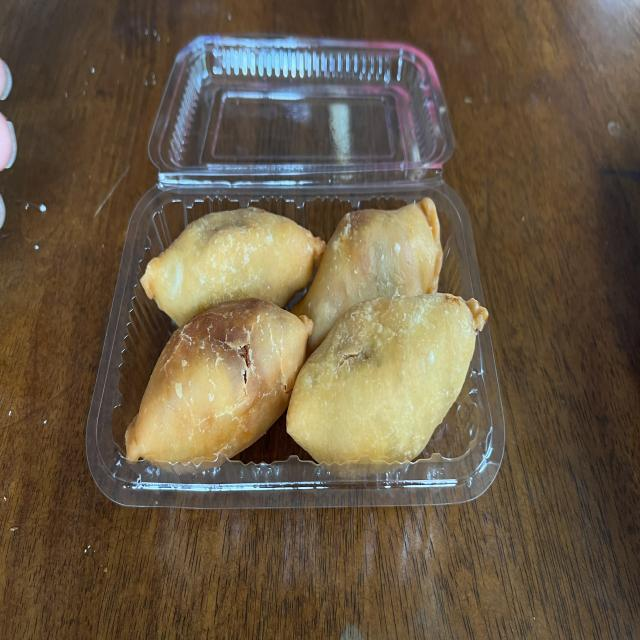karipap: (286, 293, 486, 464), (125, 298, 312, 462), (294, 198, 442, 353), (140, 207, 325, 327)
